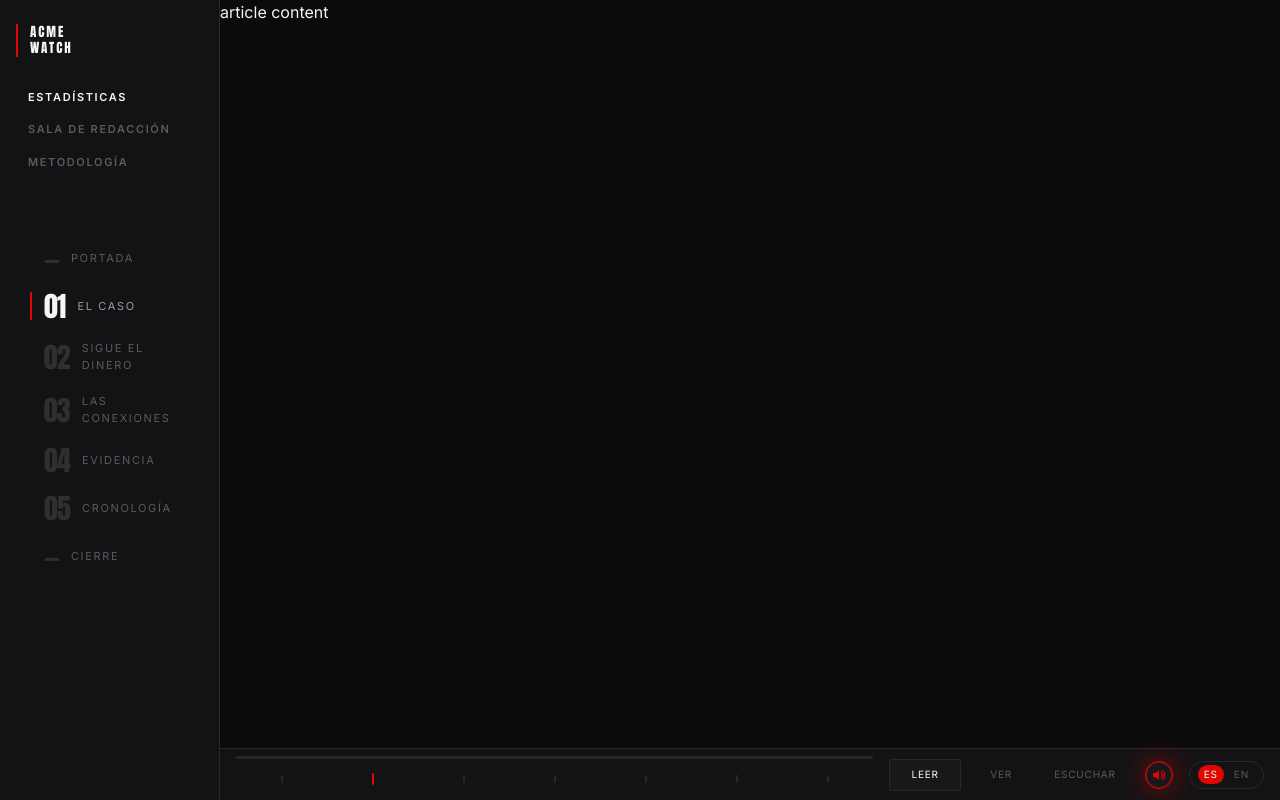
Test: AppShell — brand + locale › reveals the presentation play/pause control only in VER mode
The width and height of the screenshot is (1280, 800).
Step 1. Click the button "VER" → point(1001, 774), box [965,758,1037,790]
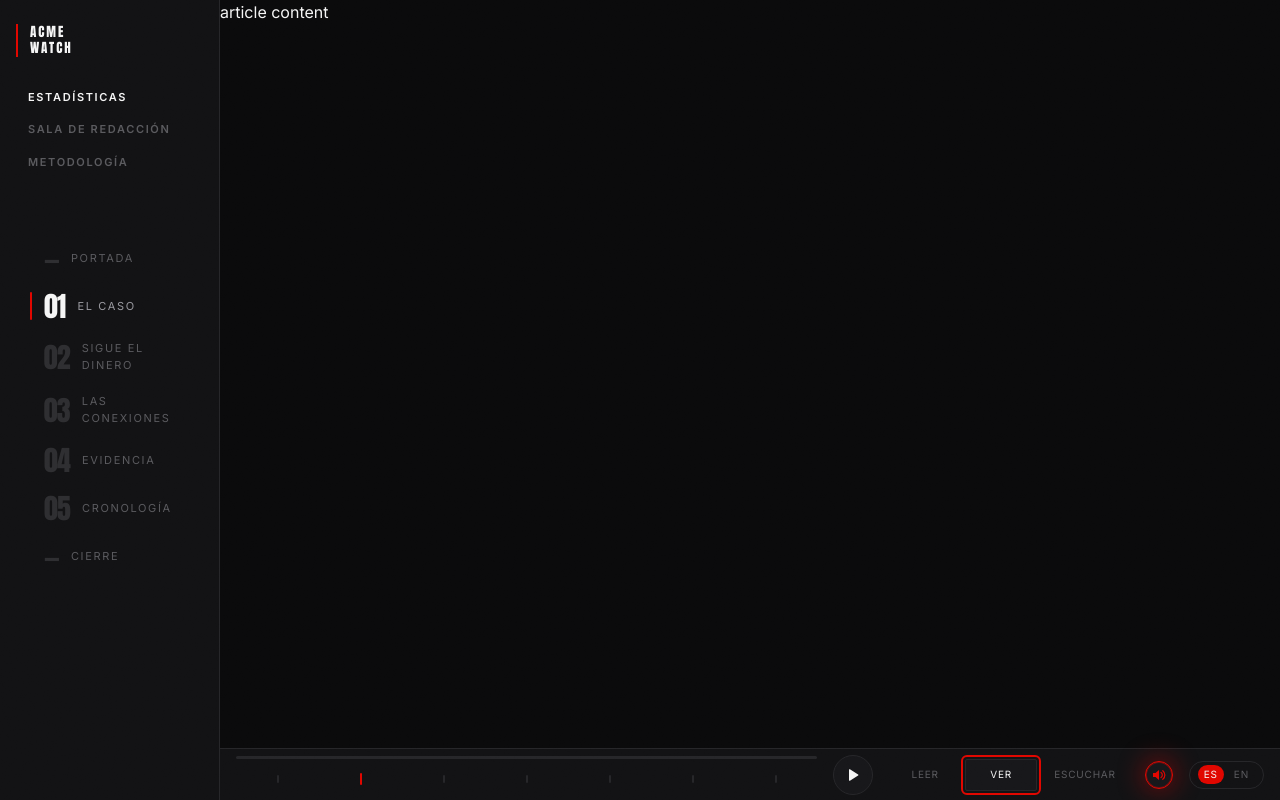
Expected: the button named "REPRODUCIR" is shown, [833,754,873,794]
